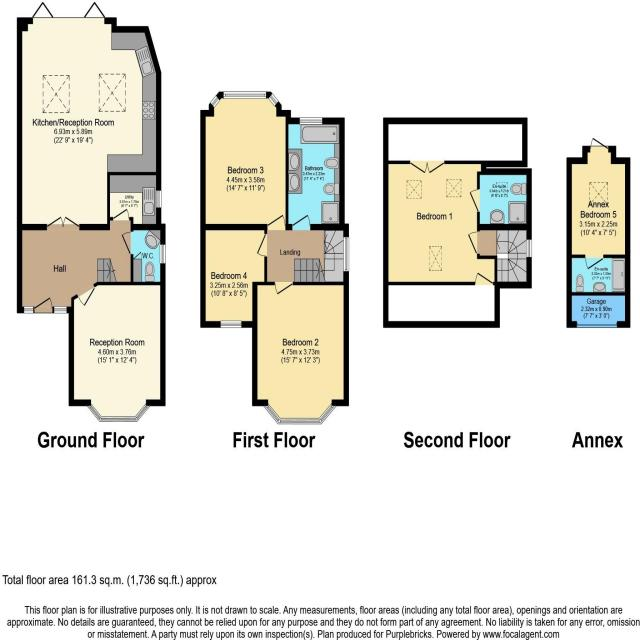DOOR: (75, 284, 97, 308), (584, 254, 605, 272), (273, 282, 296, 298), (473, 269, 496, 285), (466, 230, 480, 256), (291, 213, 311, 231), (267, 213, 286, 231), (120, 231, 134, 255), (468, 187, 480, 215), (35, 296, 53, 313), (111, 206, 131, 221), (256, 231, 267, 257)
DOUBLE DOOR: (45, 213, 81, 231)
ROOM: (17, 19, 162, 232), (384, 161, 498, 286), (252, 281, 349, 425), (69, 282, 166, 422), (200, 91, 293, 231), (566, 135, 630, 274), (200, 223, 267, 327)
WINDOW: (261, 399, 340, 426), (85, 400, 153, 424), (223, 90, 267, 100), (342, 234, 350, 273), (219, 319, 243, 330), (299, 115, 323, 126), (209, 94, 221, 109), (268, 92, 279, 108), (159, 243, 166, 265), (525, 239, 532, 259), (155, 189, 162, 208), (53, 305, 67, 314), (23, 305, 34, 314)
